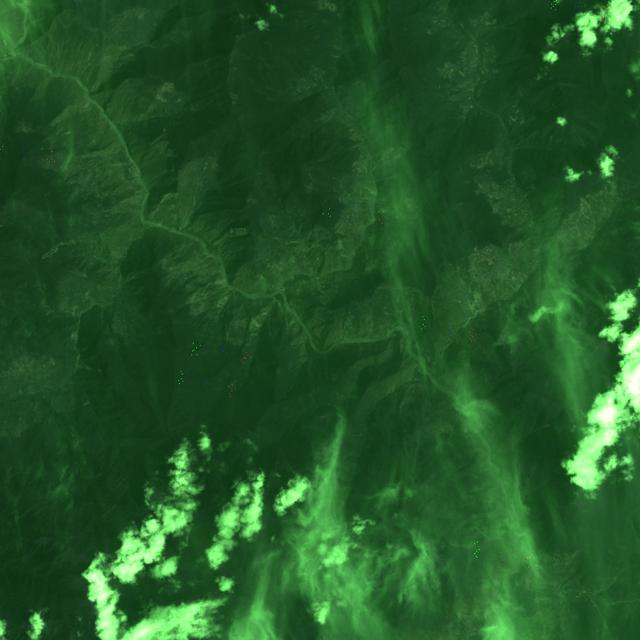landslides: (42, 238, 75, 258), (469, 501, 502, 521), (94, 584, 120, 598), (77, 359, 101, 374), (417, 295, 428, 320), (97, 284, 115, 299), (21, 524, 35, 539), (259, 275, 269, 294), (43, 248, 59, 259), (305, 243, 318, 256), (80, 99, 91, 114), (111, 250, 127, 260), (250, 318, 261, 332), (369, 386, 379, 400), (283, 263, 293, 277), (364, 186, 377, 196), (180, 436, 196, 444), (507, 484, 519, 494), (47, 313, 57, 325), (85, 291, 94, 304), (311, 388, 317, 407), (229, 227, 247, 233), (236, 582, 248, 591)
